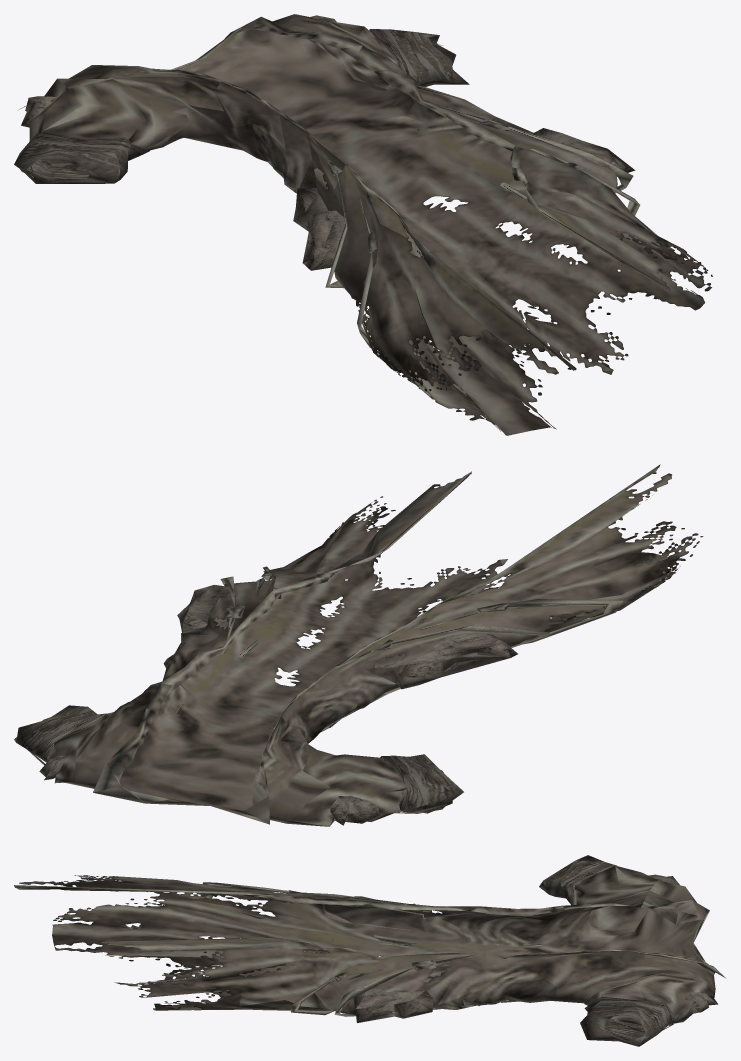
The model's file is CazadorCoat_Ground.fbx.
3 views of the same model, one above another, from view 1: azimuth 30°, elevation 25°; view 2: azimuth 150°, elevation 25°; view 3: azimuth 270°, elevation 25° (orthographic). The views are drawn at different scales.
Parts seen in each view (by area): view 1: FullCoat; view 2: FullCoat; view 3: FullCoat.
Part boxes in pixels (x1,y1,x2,y2): FullCoat: (14,14,712,435); FullCoat: (14,464,703,826); FullCoat: (14,855,726,1046).
Size of the model in its own units: 0.3789 by 0.0672 by 0.6743.
